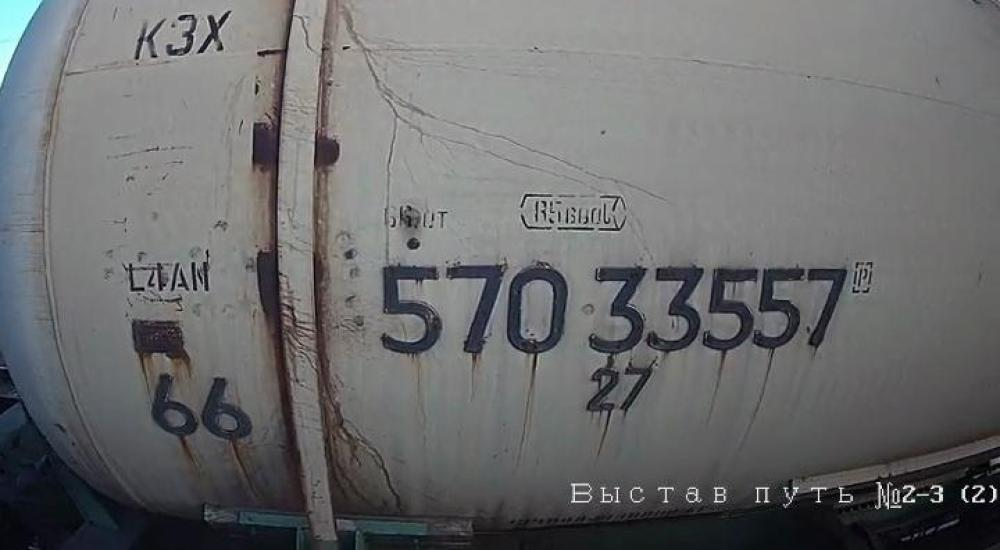Wagon-number: (376, 257, 853, 362)
